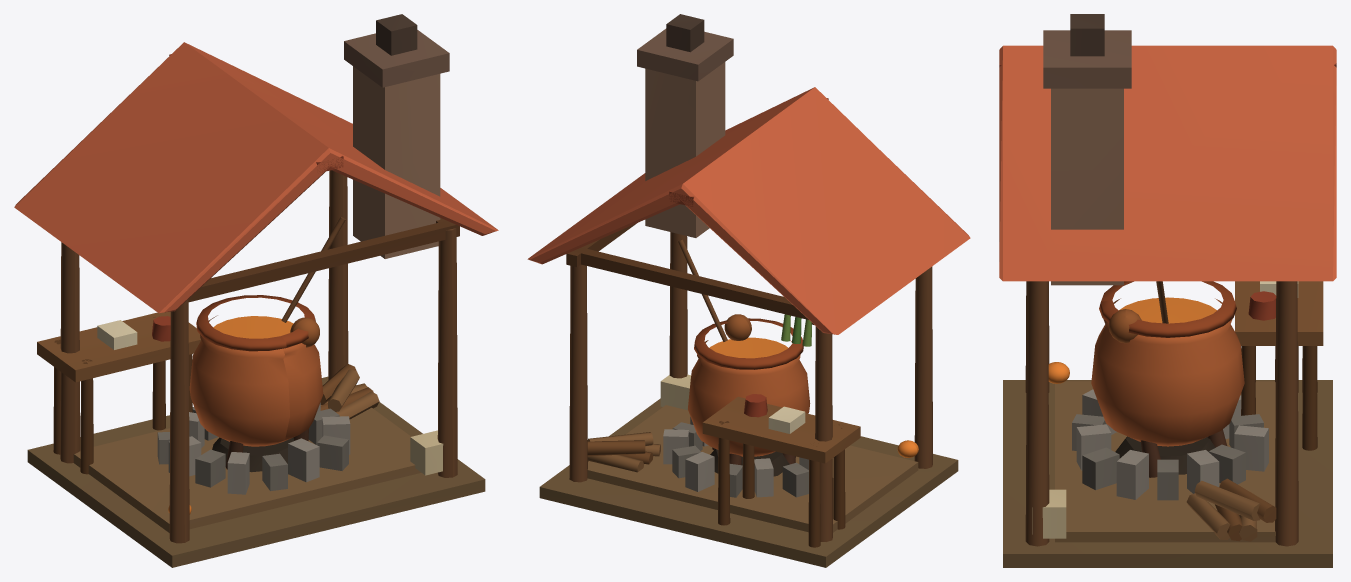
Rendered from kitchen-cauldron.glb.
3 views of the same model, side by side, from view 1: azimuth 30°, elevation 25°; view 2: azimuth 150°, elevation 25°; view 3: azimuth 270°, elevation 25° (orthographic). The views are drawn at different scales.
Parts seen in each view (by area): view 1: kitchen-roof, hearth-deck, hearth-inner, chimney-stack, cauldron, beam-back, table-top, post-2, post-3, post-0, chimney-cap, post-1 (+16 smaller); view 2: kitchen-roof, hearth-deck, hearth-inner, chimney-stack, cauldron, table-top, post-1, beam-front, post-2, post-0, chimney-cap, post-3 (+17 smaller); view 3: kitchen-roof, hearth-deck, cauldron, hearth-inner, chimney-stack, post-1, post-3, chimney-cap, table-top, cauldron-rim, soup-surface, table-leg-b (+21 smaller).
Boxes of the visible parts, x1=… form: kitchen-roof: x1=14, y1=42, x2=498, y2=313; hearth-deck: x1=27, y1=376, x2=485, y2=567; hearth-inner: x1=73, y1=407, x2=421, y2=532; chimney-stack: x1=353, y1=66, x2=440, y2=258; cauldron: x1=189, y1=315, x2=323, y2=446; beam-back: x1=188, y1=220, x2=459, y2=302; table-top: x1=37, y1=311, x2=200, y2=382; post-2: x1=169, y1=299, x2=189, y2=543; post-3: x1=437, y1=228, x2=457, y2=477; post-0: x1=60, y1=242, x2=80, y2=463; chimney-cap: x1=344, y1=30, x2=449, y2=87; post-1: x1=328, y1=170, x2=348, y2=380; kitchen-roof: x1=527, y1=87, x2=970, y2=334; hearth-deck: x1=539, y1=398, x2=958, y2=567; hearth-inner: x1=587, y1=405, x2=918, y2=532; chimney-stack: x1=645, y1=62, x2=725, y2=237; cauldron: x1=688, y1=340, x2=810, y2=456; table-top: x1=702, y1=396, x2=860, y2=463; post-1: x1=569, y1=264, x2=587, y2=482; beam-front: x1=573, y1=247, x2=808, y2=319; post-2: x1=914, y1=266, x2=932, y2=468; post-0: x1=815, y1=326, x2=832, y2=541; chimney-cap: x1=637, y1=28, x2=733, y2=81; post-3: x1=669, y1=232, x2=687, y2=378; kitchen-roof: x1=999, y1=45, x2=1336, y2=281; hearth-deck: x1=1003, y1=380, x2=1332, y2=567; cauldron: x1=1091, y1=298, x2=1244, y2=446; hearth-inner: x1=1055, y1=381, x2=1275, y2=542; chimney-stack: x1=1051, y1=88, x2=1123, y2=285; post-1: x1=1275, y1=281, x2=1298, y2=546; post-3: x1=1025, y1=281, x2=1049, y2=546; chimney-cap: x1=1043, y1=30, x2=1131, y2=88; table-top: x1=1235, y1=281, x2=1323, y2=345; cauldron-rim: x1=1099, y1=281, x2=1236, y2=337; soup-surface: x1=1119, y1=297, x2=1216, y2=323; table-leg-b: x1=1302, y1=346, x2=1317, y2=450.
Size of the model in its own units: 2.33 by 2.98 by 1.76.
